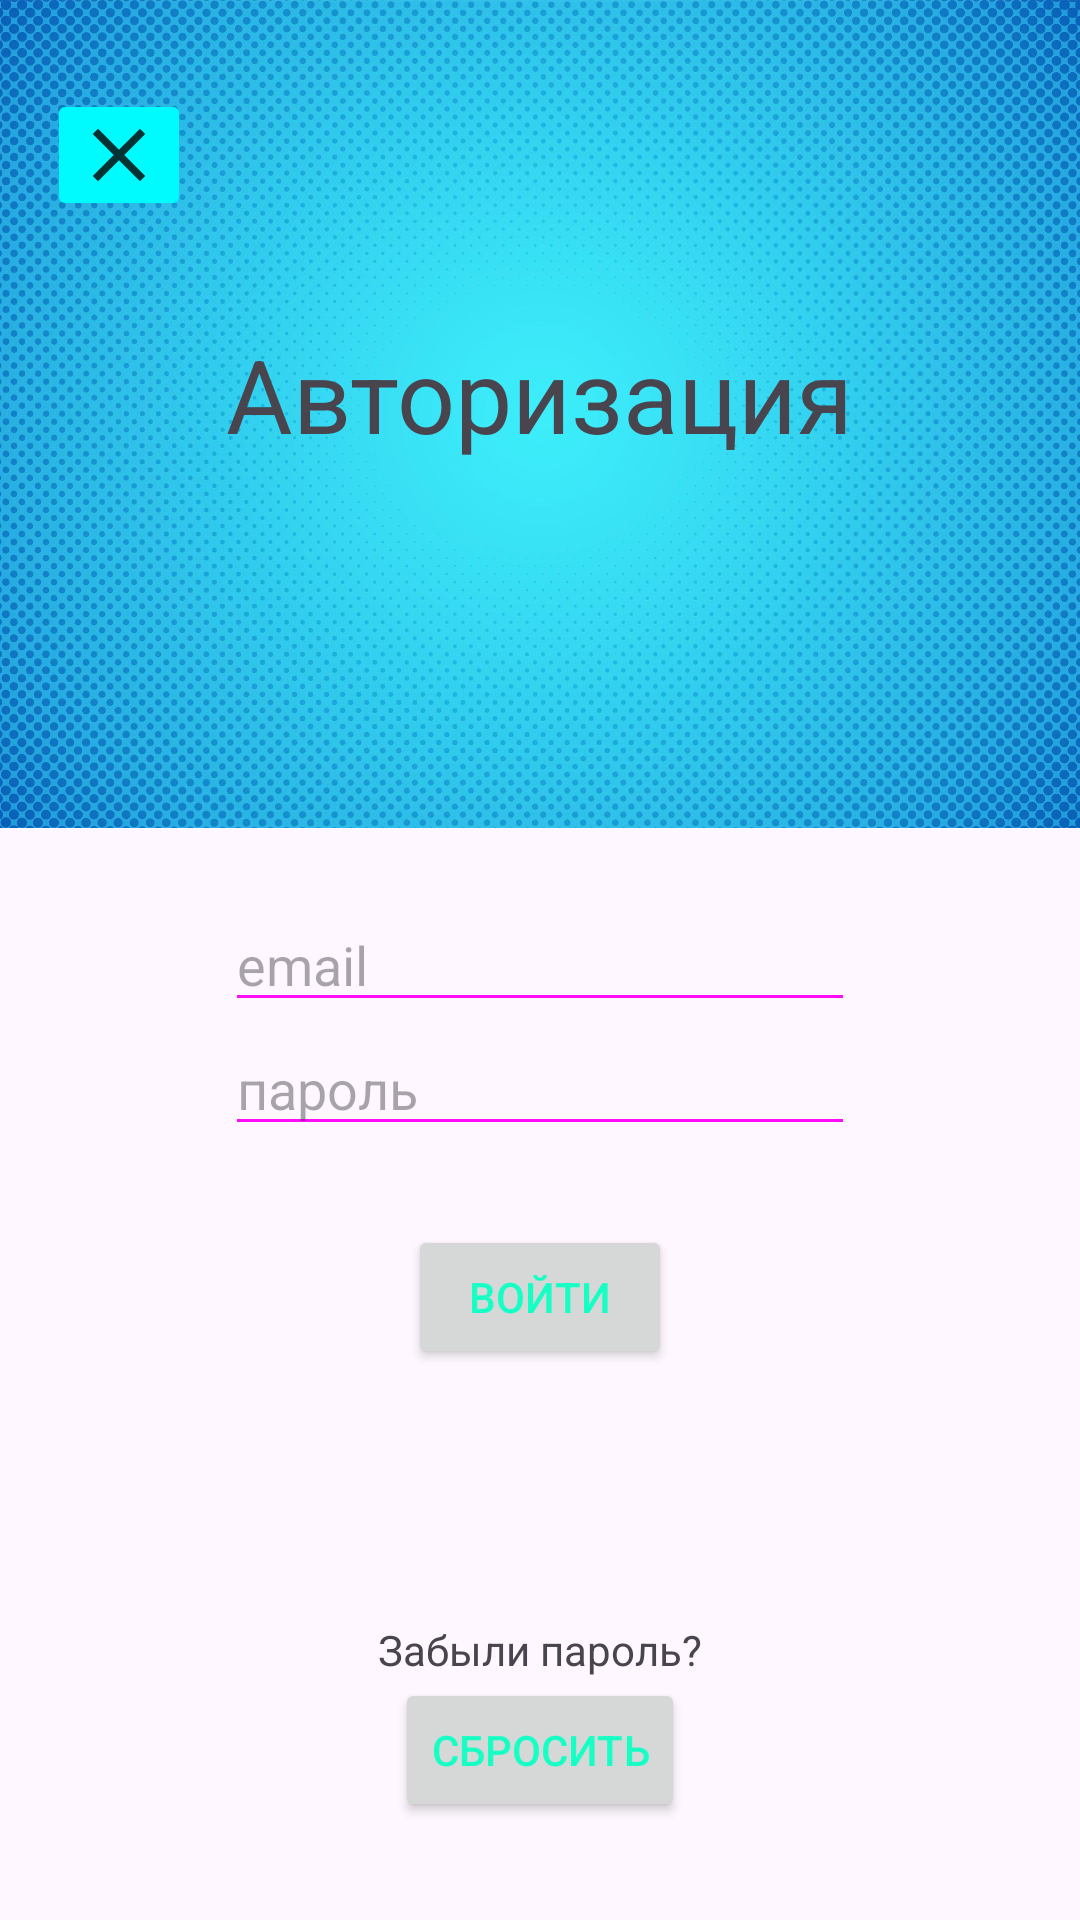

Named icons in this screenshot (1080w x 1920h) and their bounding boxes, box=[x1, y1, x2, y2]:
close: box=[47, 89, 191, 221]
